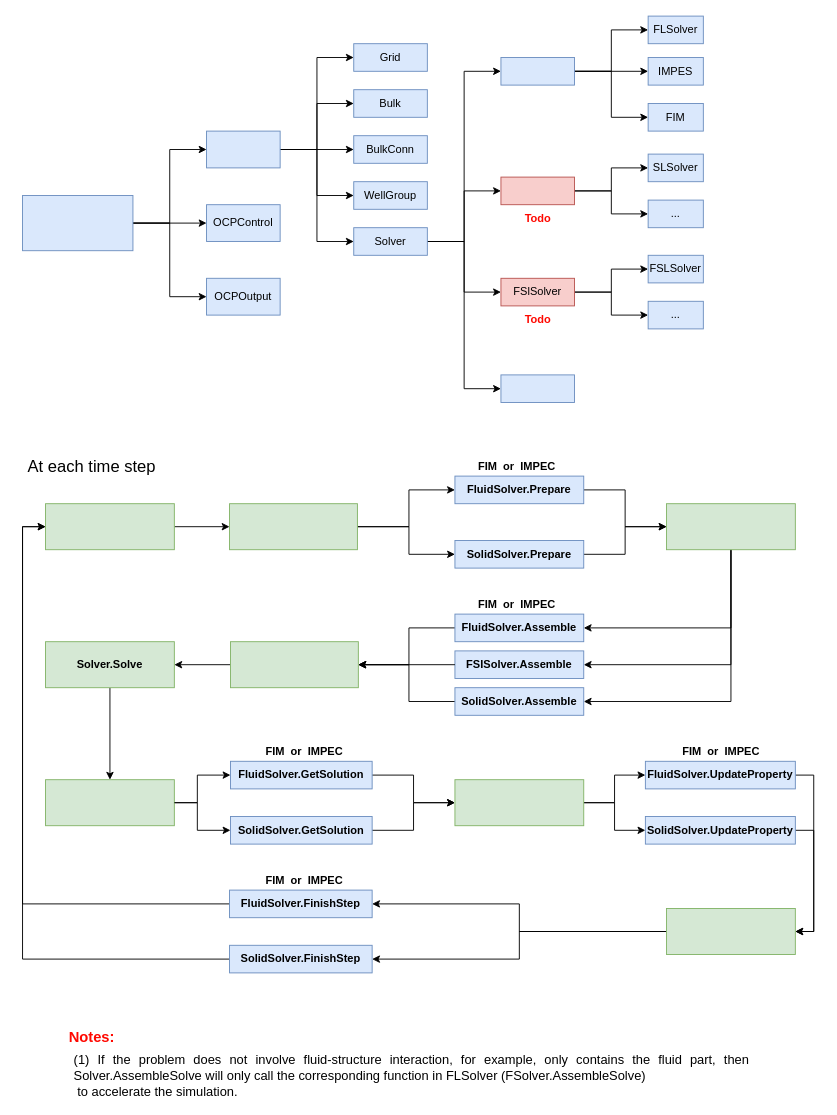
The diagram is 837 pixels wide and 1115 high, and some of its shapes have lost their labels. The shapes that lost their labels are listed below. From the top down, each one's box as (x1, y1, x2, y2) in pixels, then its label:
(500, 57, 575, 85): FluidSolver
(206, 130, 280, 168): OCPMethod
(500, 176, 575, 205): SolidSolver
(22, 195, 133, 251): OpenCAEPoro
(500, 374, 575, 402): LSolver
(45, 503, 174, 550): Solver.GoOneStep
(229, 503, 357, 550): Solver.Prepare
(666, 503, 795, 550): Solver.AssembleSolve
(230, 641, 358, 688): Solver.Assemble
(45, 779, 174, 826): Solver.GetSolution
(454, 779, 584, 826): Solver.UpdateProperty
(666, 908, 795, 954): Solver.FinishStep
